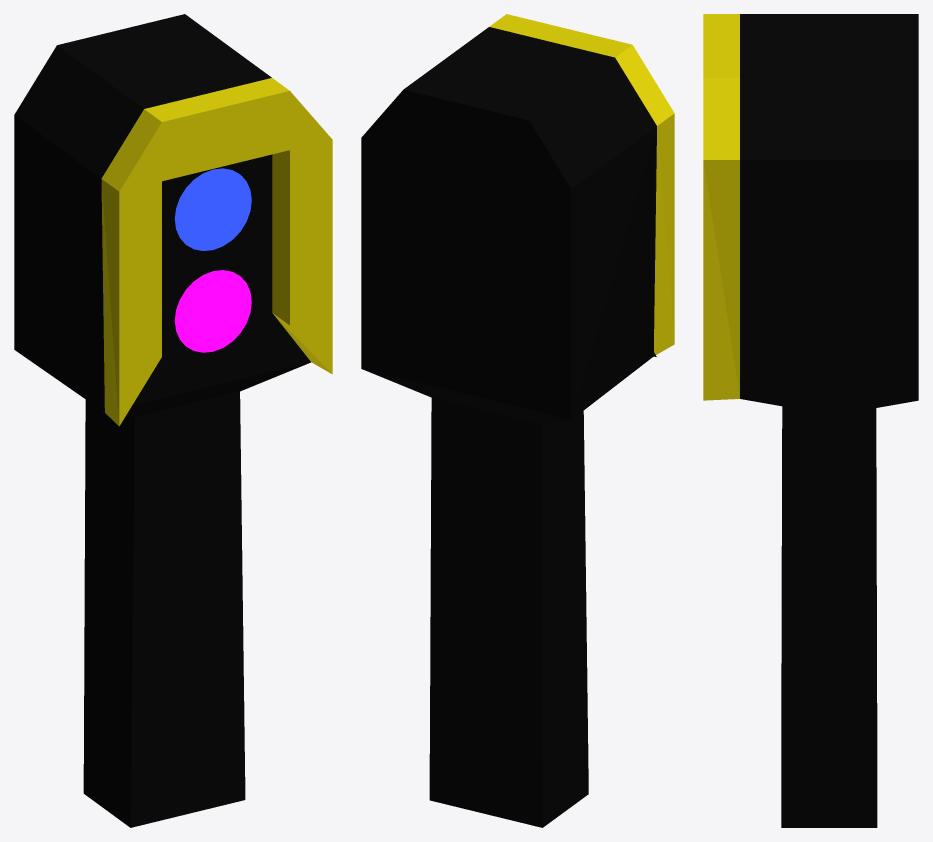
Rendered from LightPost.fbx.
3 renders of one model, left to right at view 1: azimuth 30°, elevation 25°; view 2: azimuth 150°, elevation 25°; view 3: azimuth 270°, elevation 25°, orthographic. The views are drawn at different scales.
Parts seen in each view (by area): view 1: pCube1, pasted__pDisc1, pDisc1; view 2: pCube1; view 3: pCube1.
Part boxes in pixels (box(x1,y1,x2,y2)): pCube1: box(14, 14, 332, 827); pasted__pDisc1: box(174, 270, 251, 352); pDisc1: box(174, 168, 251, 250); pCube1: box(361, 14, 674, 827); pCube1: box(703, 14, 918, 827).
Bounding box in the file's own units: 0.7537 × 2.48 × 0.6426.
